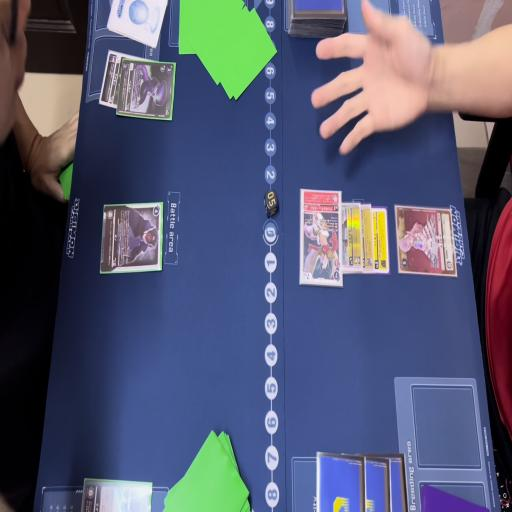card: (98, 204, 164, 278), (392, 203, 459, 275), (295, 190, 342, 290), (116, 60, 178, 120), (82, 472, 155, 512), (340, 201, 362, 278), (98, 52, 127, 108), (373, 199, 391, 277), (362, 198, 376, 276)
